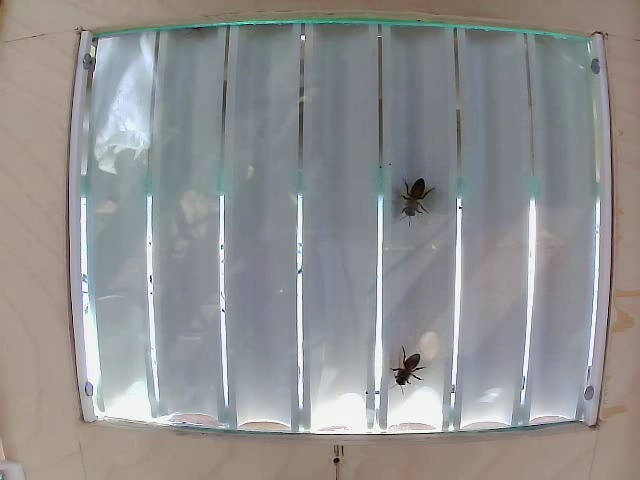bee: (400, 174, 436, 229), (397, 345, 427, 387)
